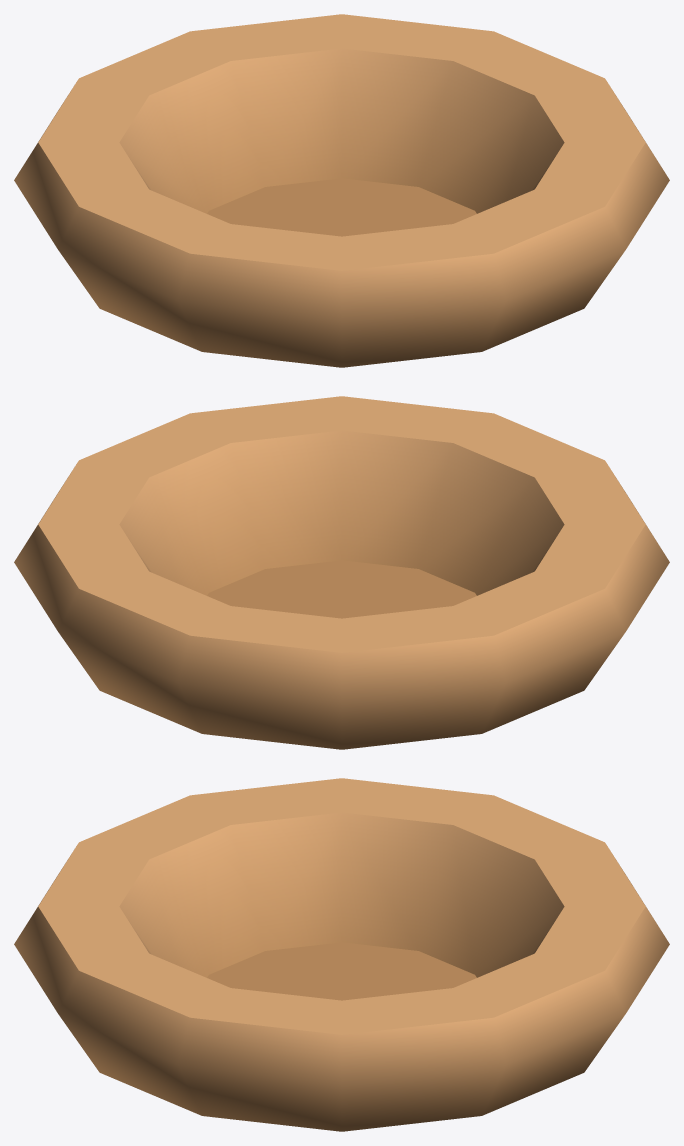
File: detail-plate.glb
3 views of the same model, one above another, from view 1: azimuth 30°, elevation 25°; view 2: azimuth 150°, elevation 25°; view 3: azimuth 270°, elevation 25° (orthographic).
Visible parts, largest first — view 1: detail-plate; view 2: detail-plate; view 3: detail-plate.
Part boxes in pixels (box(x1,y1,x2,y2)): detail-plate: box(14, 14, 669, 367); detail-plate: box(14, 396, 669, 749); detail-plate: box(14, 778, 669, 1131).
Bounding box in the file's own units: 0.2715 × 0.0489 × 0.2715.
Materials: 1 (1 with a texture image).
